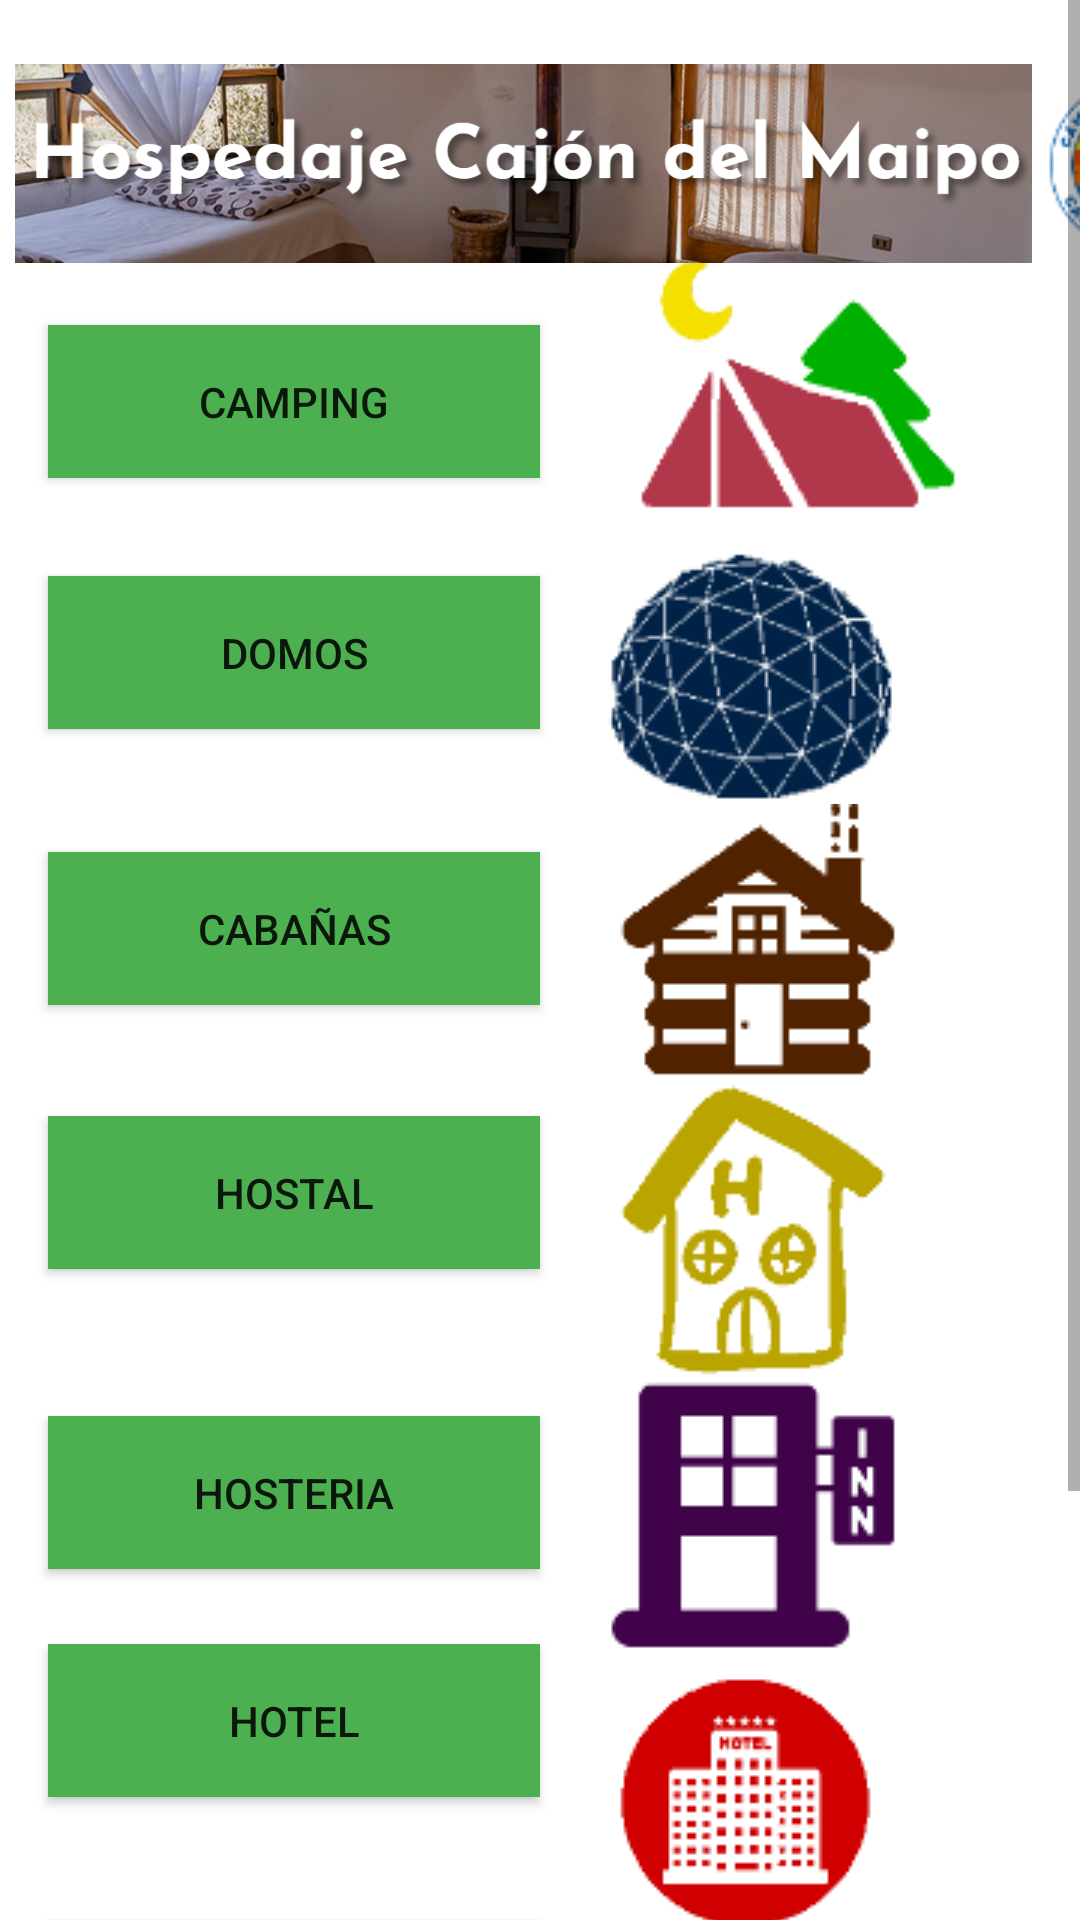

Screen size 1080x1920. Icon name, then its center in pixels as [x,y]:
cabanas: [757,939]
